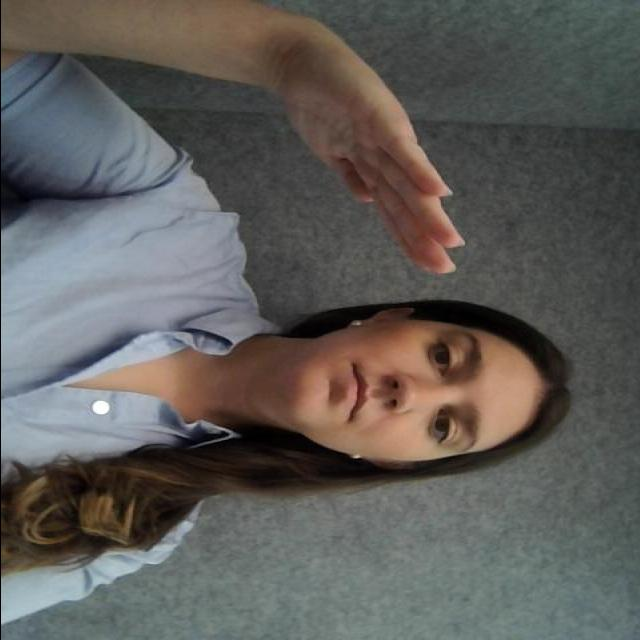Paper: (273, 51, 479, 268)
